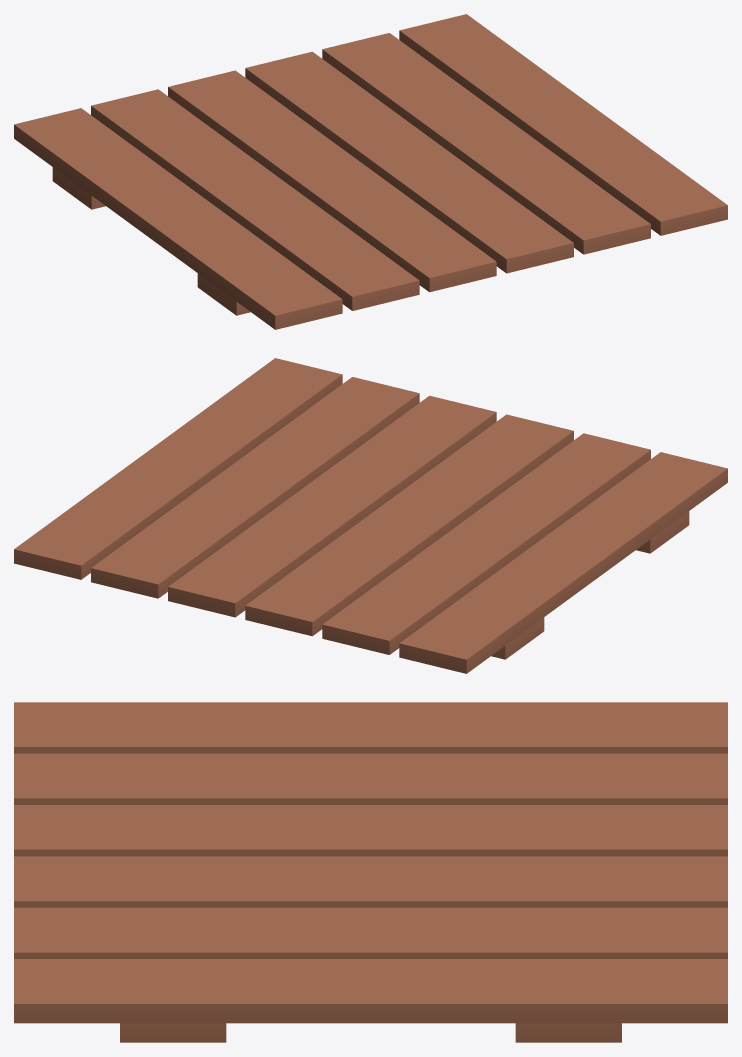
The model's file is planks.glb.
3 views of the same model, one above another, from view 1: azimuth 30°, elevation 25°; view 2: azimuth 150°, elevation 25°; view 3: azimuth 270°, elevation 25° (orthographic). The views are drawn at different scales.
Parts seen in each view (by area): view 1: planks; view 2: planks; view 3: planks.
Boxes of the visible parts, <box> form: planks: <box>14,14,727,329</box>; planks: <box>14,358,727,673</box>; planks: <box>14,702,727,1042</box>.
Bounding box in the file's own units: 1 × 0.06 × 1.
